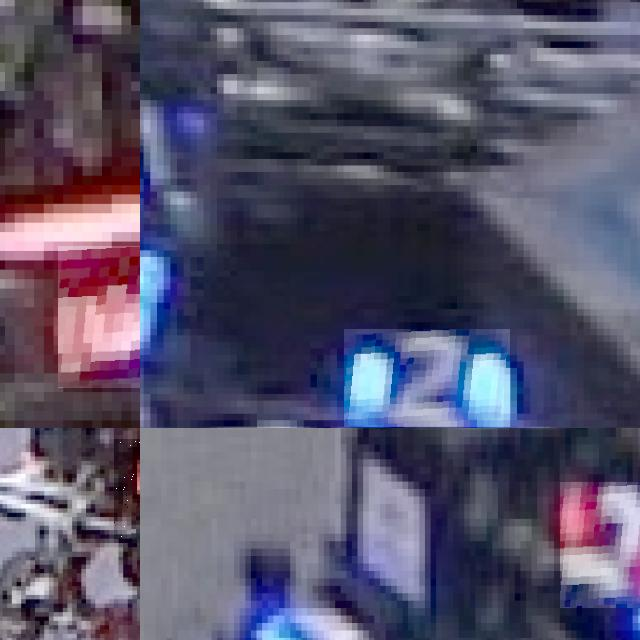B2: (344, 329, 510, 427)
R2: (559, 481, 640, 608)
R3: (58, 246, 140, 387)
